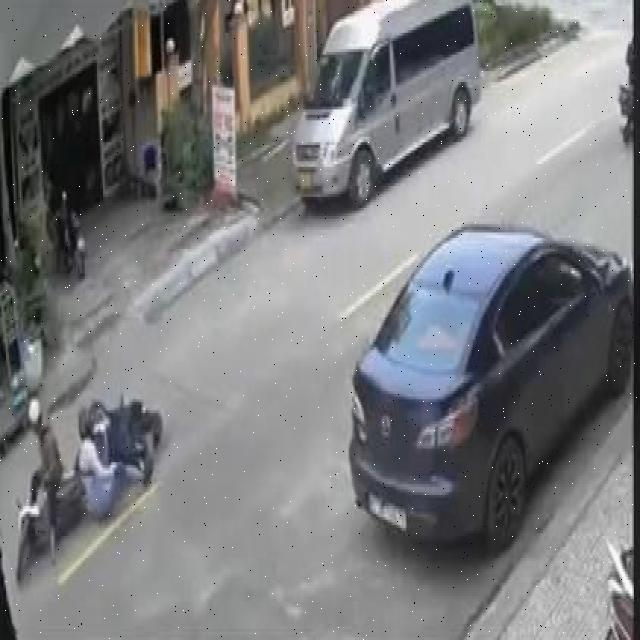accident: (13, 342, 166, 599)
